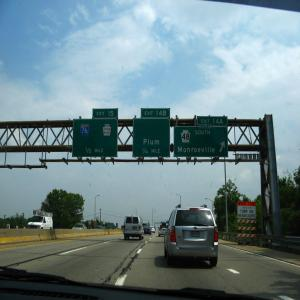Vehicle-registration-plate: (192, 231, 201, 239)
